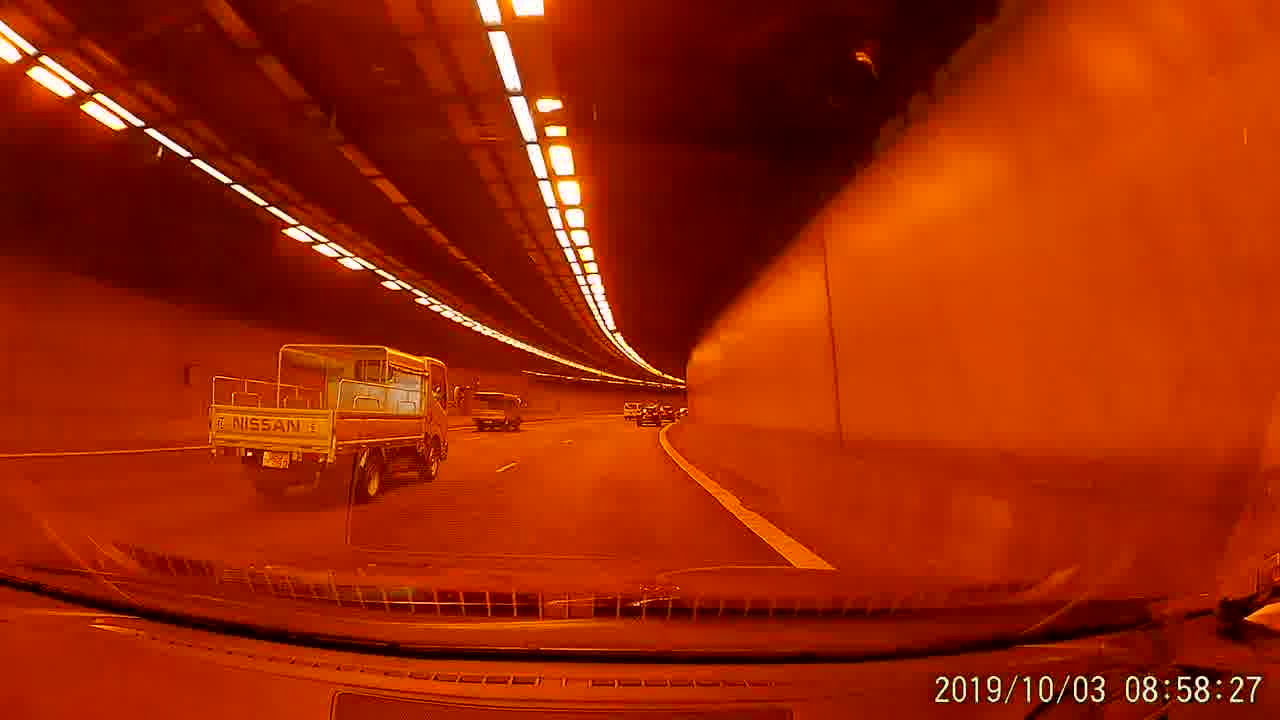car: (635, 403, 659, 426), (660, 404, 675, 418)
